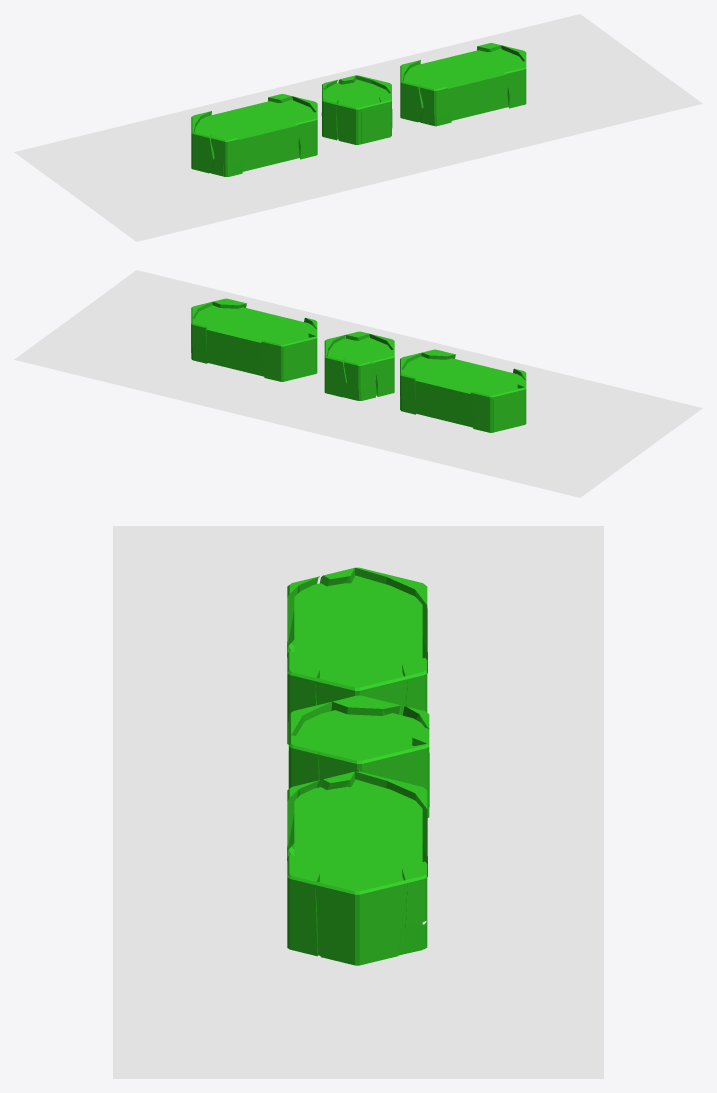
Rendered from RotateCW.fbx.
The picture shows the model from 3 angles, top to bottom: view 1: azimuth 30°, elevation 25°; view 2: azimuth 150°, elevation 25°; view 3: azimuth 270°, elevation 25°; orthographic projection. The views are drawn at different scales.
Visible parts, largest first — view 1: Shadow (×3), Model (×3), HexGib09 (×3), HexGib05 (×2), HexGib06 (×2), HexGib01; view 2: Shadow (×3), Model (×3), HexGib04 (×2), HexGib02 (×2), HexGib09, HexGib05, HexGib06; view 3: Shadow (×3), Model (×3), HexGib01 (×2), HexGib04 (×3), HexGib09 (×3), HexGib02 (×3).
Boxes of the visible parts, x1=… form: Shadow (×3): x1=14, y1=14, x2=702, y2=241; Model (×3): x1=195, y1=48, x2=522, y2=176; HexGib09 (×3): x1=295, y1=61, x2=526, y2=159; HexGib05 (×2): x1=192, y1=80, x2=423, y2=173; HexGib06 (×2): x1=211, y1=86, x2=451, y2=167; HexGib01: x1=336, y1=102, x2=381, y2=144; Shadow (×3): x1=14, y1=270, x2=702, y2=497; Model (×3): x1=191, y1=305, x2=523, y2=432; HexGib04 (×2): x1=261, y1=336, x2=526, y2=432; HexGib02 (×2): x1=191, y1=318, x2=415, y2=406; HexGib09: x1=372, y1=349, x2=394, y2=396; HexGib05: x1=325, y1=355, x2=346, y2=397; HexGib06: x1=344, y1=360, x2=375, y2=391; Shadow (×3): x1=113, y1=526, x2=603, y2=1078; Model (×3): x1=288, y1=575, x2=425, y2=955; HexGib01 (×2): x1=315, y1=676, x2=407, y2=965; HexGib04 (×3): x1=318, y1=567, x2=429, y2=876; HexGib09 (×3): x1=287, y1=651, x2=401, y2=956; HexGib02 (×3): x1=289, y1=658, x2=427, y2=927.
Size of the model in its own units: 5.42 by 0.3461 by 2.03.
